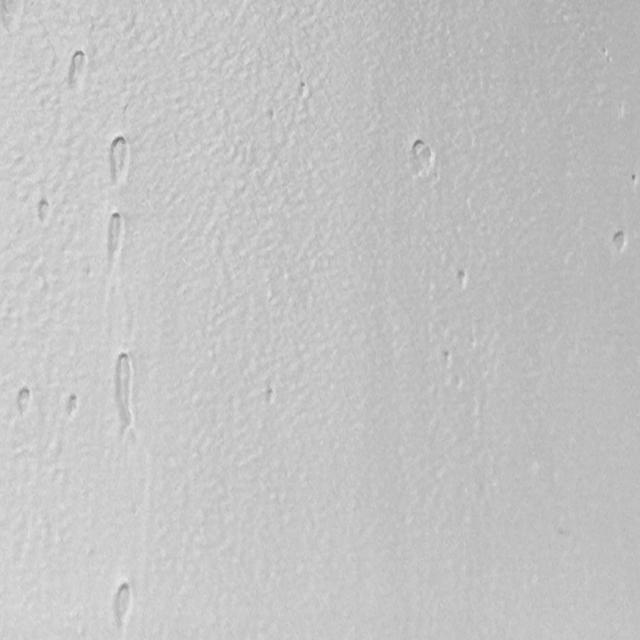pin holes: (111, 347, 142, 450), (108, 579, 140, 636), (108, 132, 137, 186), (408, 140, 440, 183), (64, 48, 88, 88), (105, 214, 127, 254), (12, 386, 34, 417), (610, 227, 631, 255), (36, 197, 56, 225), (65, 394, 83, 418), (439, 347, 456, 372), (453, 268, 470, 292), (262, 388, 278, 408), (298, 80, 312, 100), (628, 172, 638, 187)
